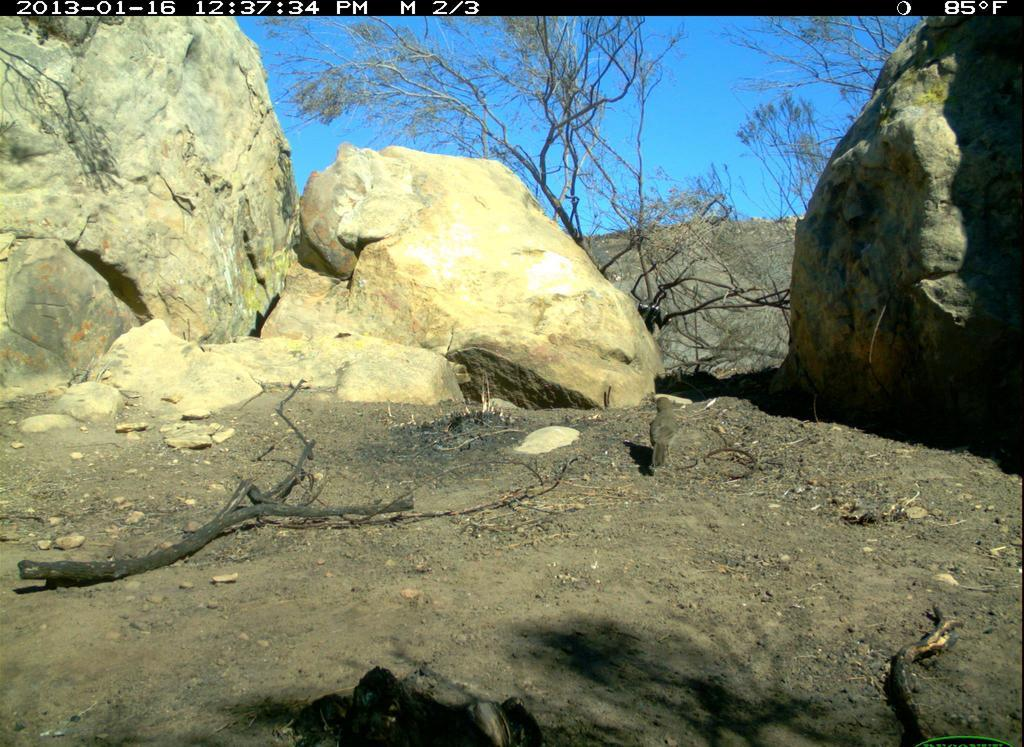bird: (634, 381, 697, 477)
